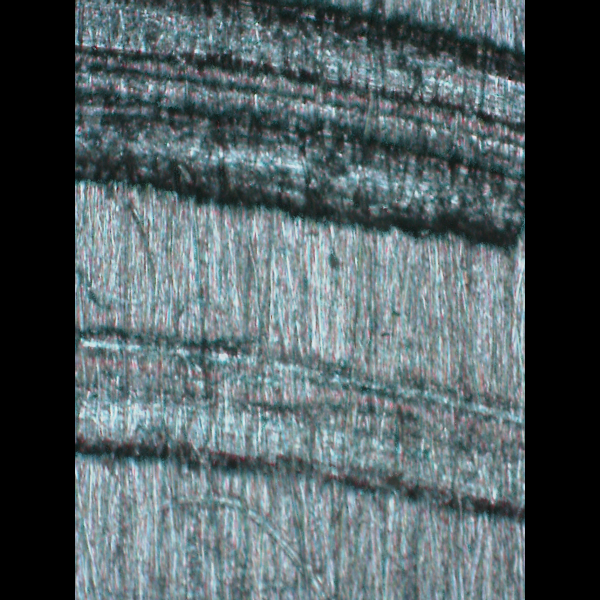d: (77, 0, 525, 251), (75, 325, 516, 527)
